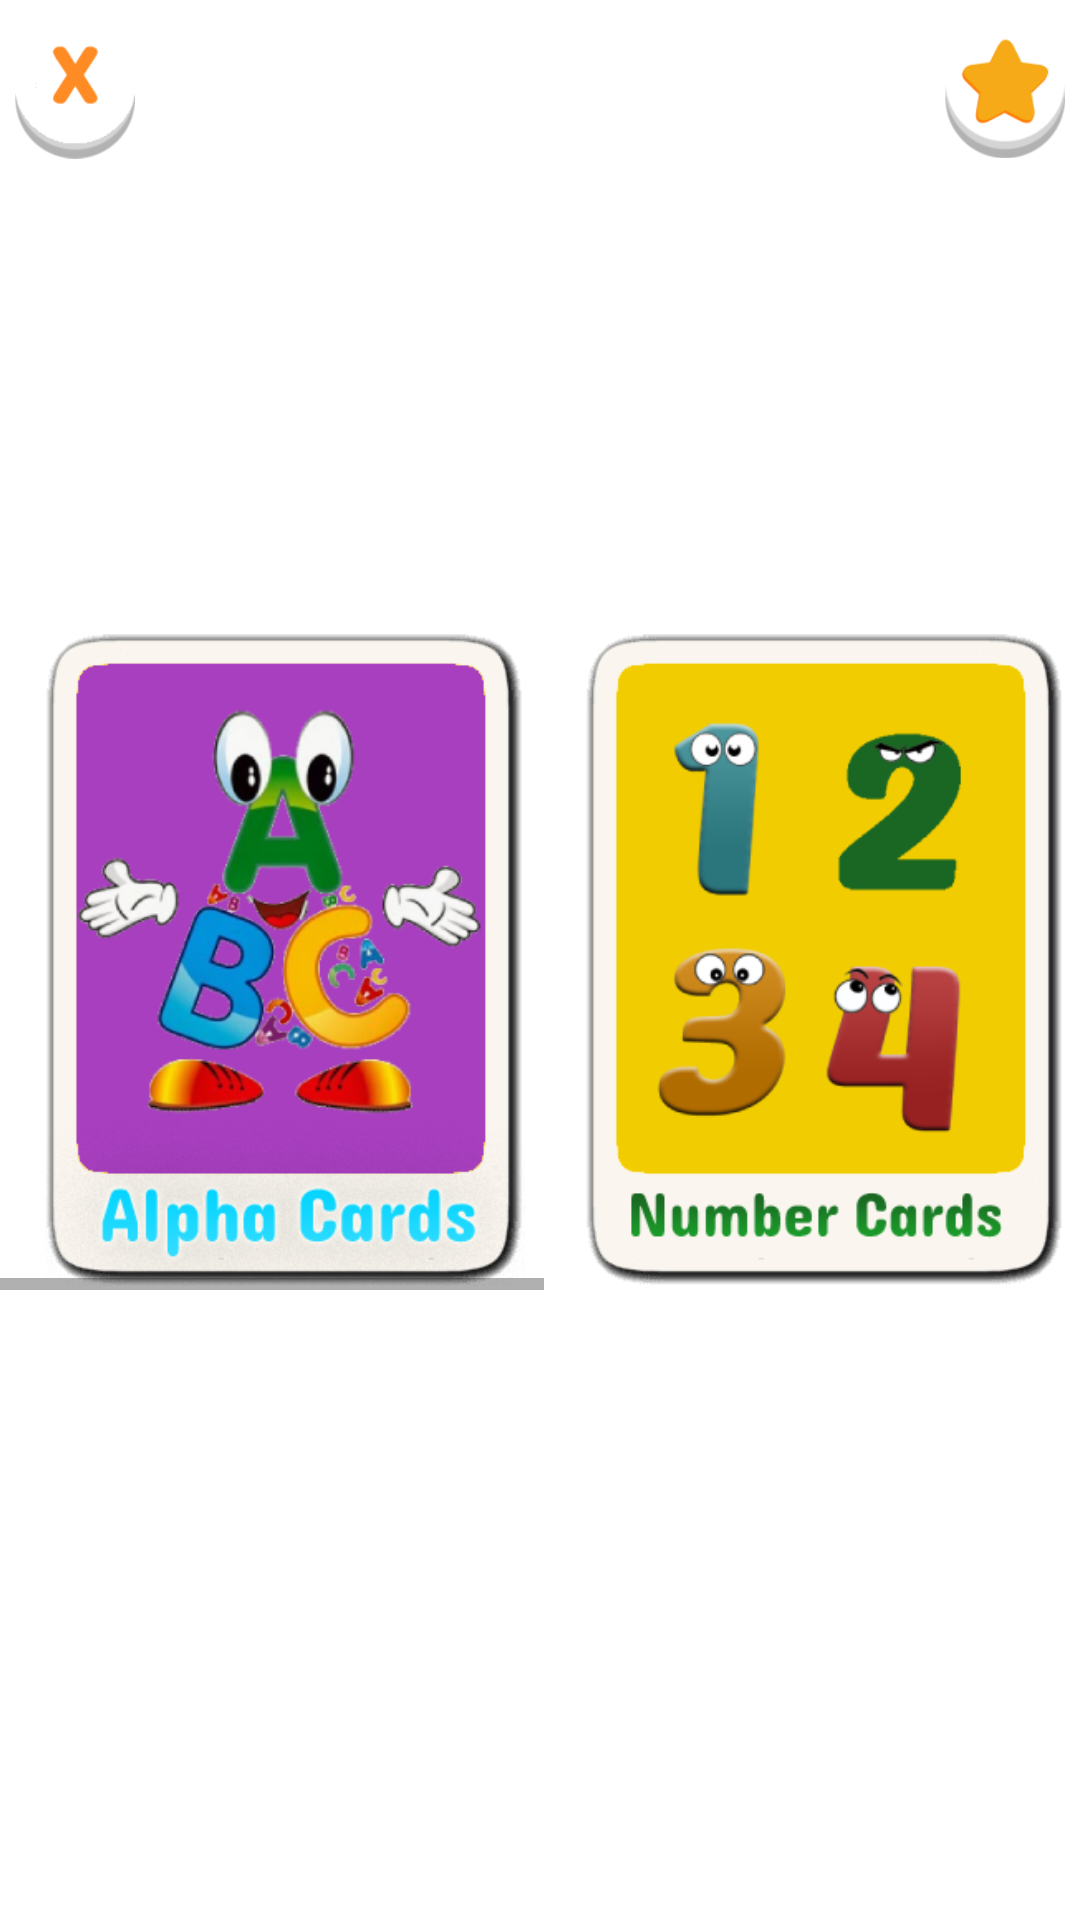

Icon bounding boxes for this 1080w x 1920h phone screenshot, format (x1, y1, x2, y2):
rate: (945, 39, 1065, 158)
